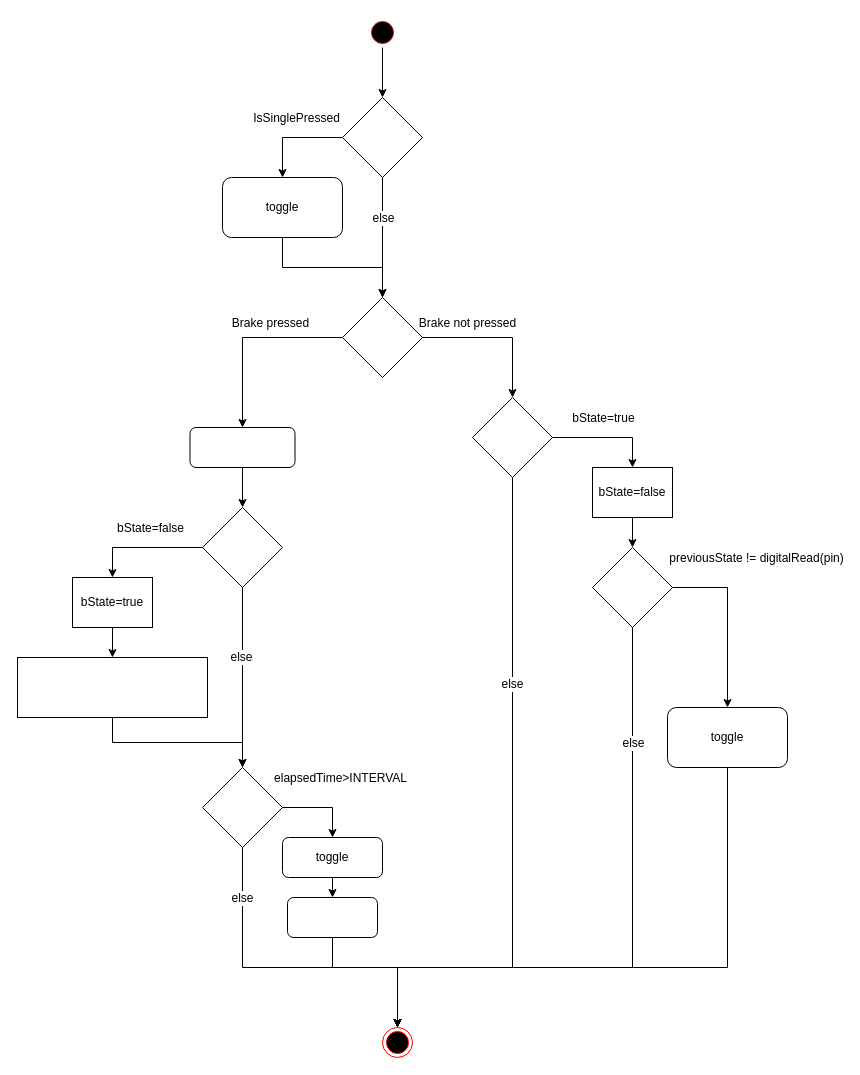
Image size: 860x1075. Some labels were removed from this diagram. Here are the shapes that lost their labels. From the top down, the centre of each, then its label:
At [242,447]: "calculateElapsed".
At [112,687]: "previousState=digitalRead(pin)".
At [332,917]: "updateTimer".
